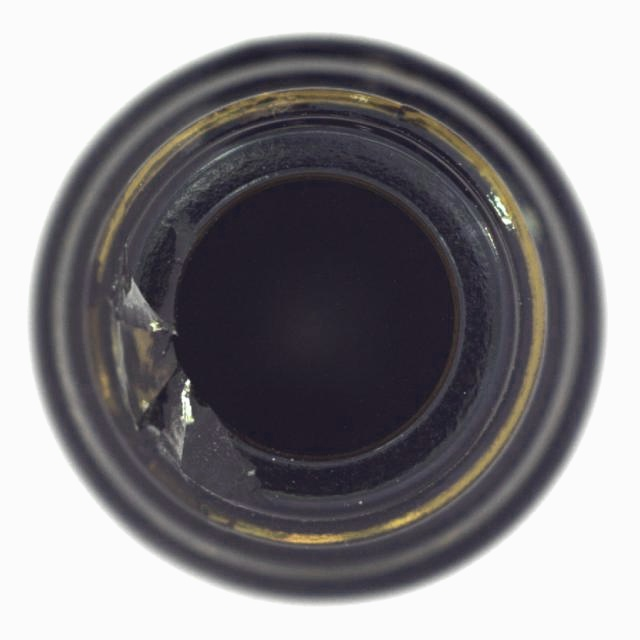bad-broken_large: (27, 33, 609, 608)
